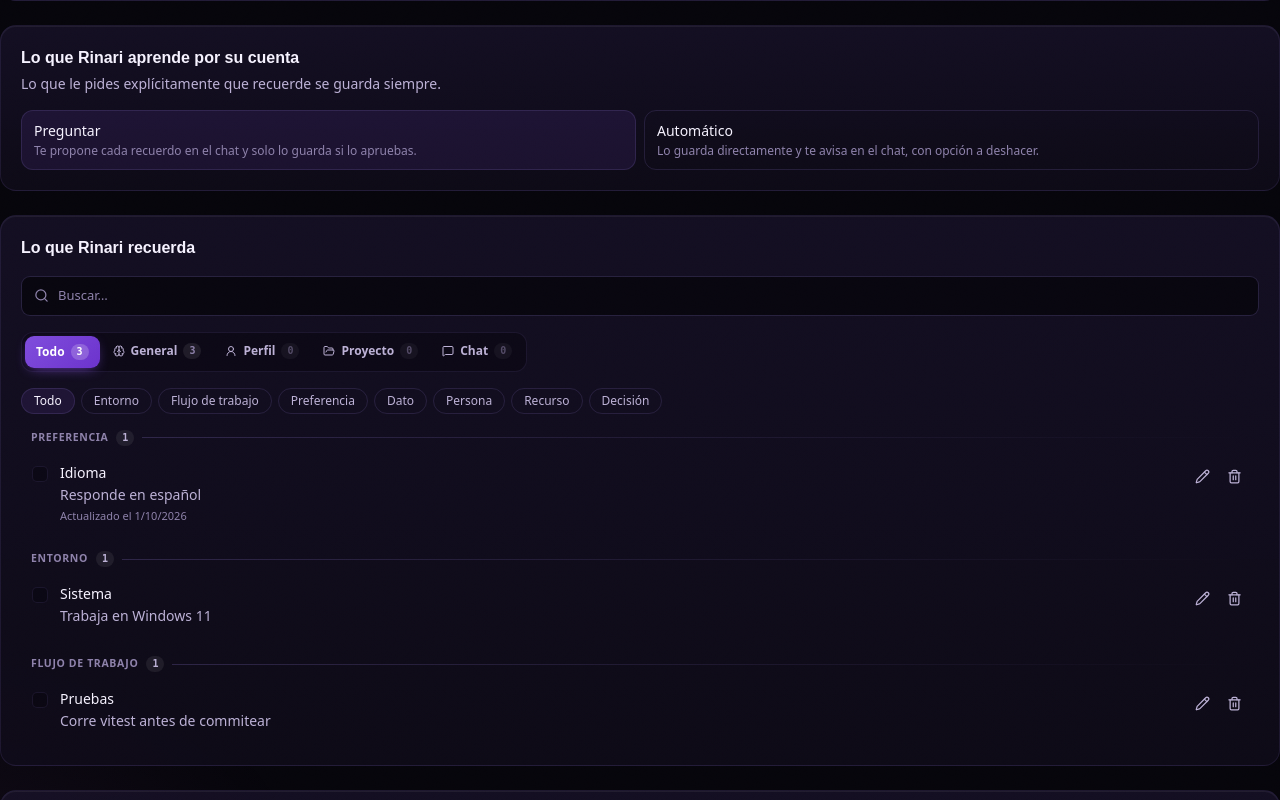
muestra propuestas pendientes, el ajuste y lo que Rinari recuerda
The width and height of the screenshot is (1280, 800).
(page scrolled)
Expected: the text "Responde en español" is shown, [60,484,201,504]
Expected: the text "Lo que le pides explícitamente que recuerde se guarda siempre." is shown, [21,74,441,93]
Filtro por tipo: Entorno, Flujo de trabajo, Preferencia, Dato.
Click the radio button labelled "Flujo de trabajo" at (215, 400), box [158,388,272,414]
(page scrolled)
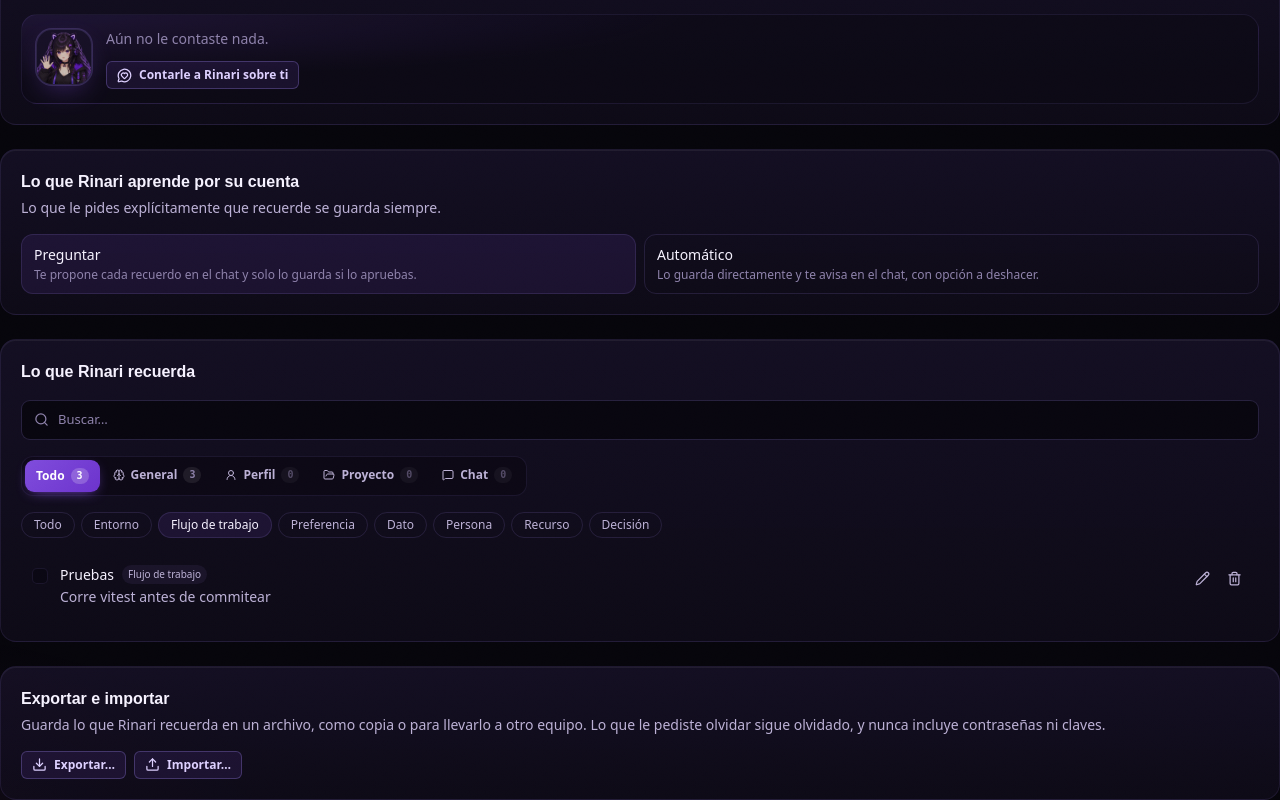
Click the radio button labelled "Dato" at (400, 524), box [374,512,427,538]
(page scrolled)
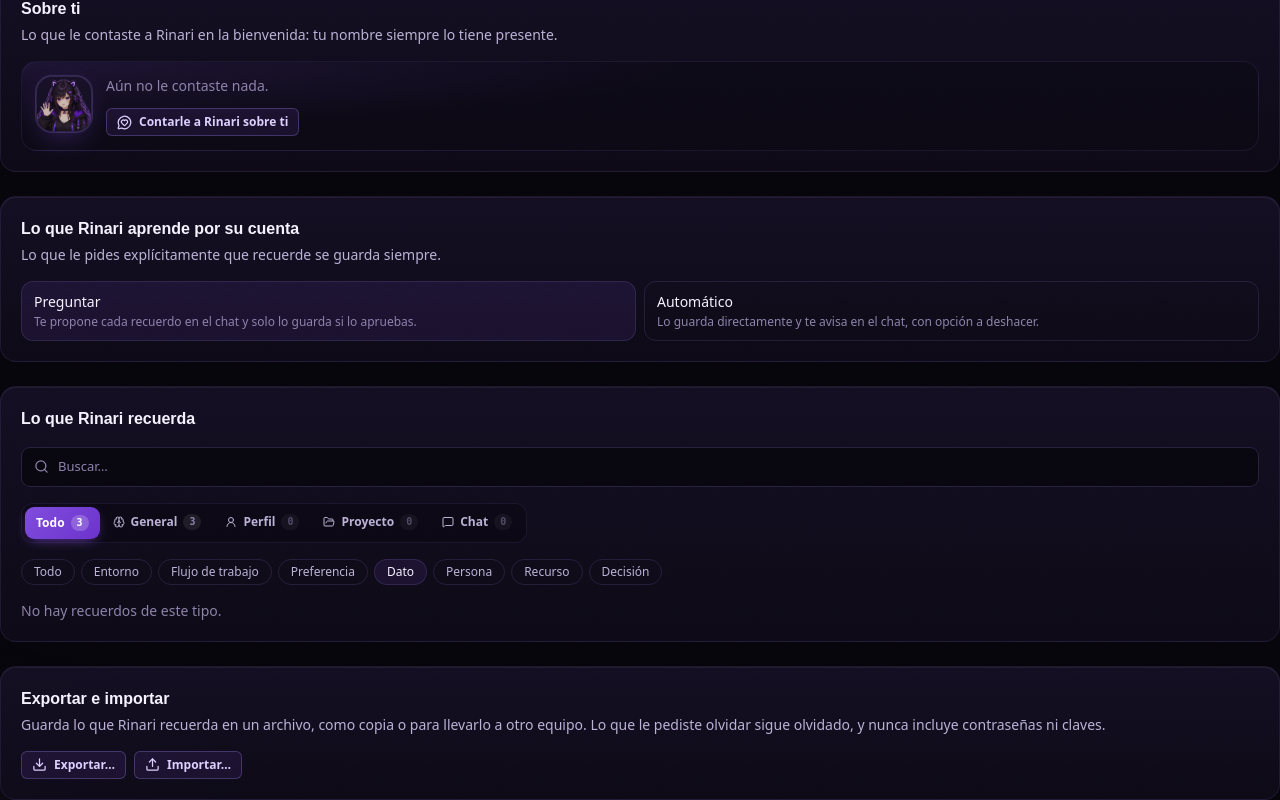
Now the text "No hay recuerdos de este tipo." is shown, box [21,600,222,620]
